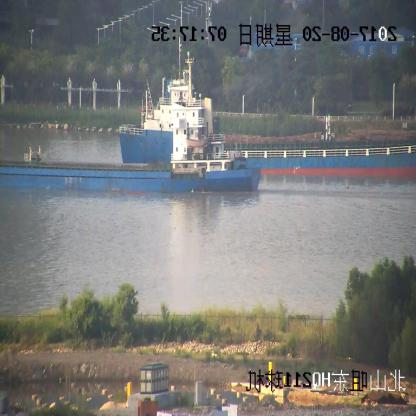Bulk Carrier: (139, 69, 416, 177), (0, 104, 262, 194)
